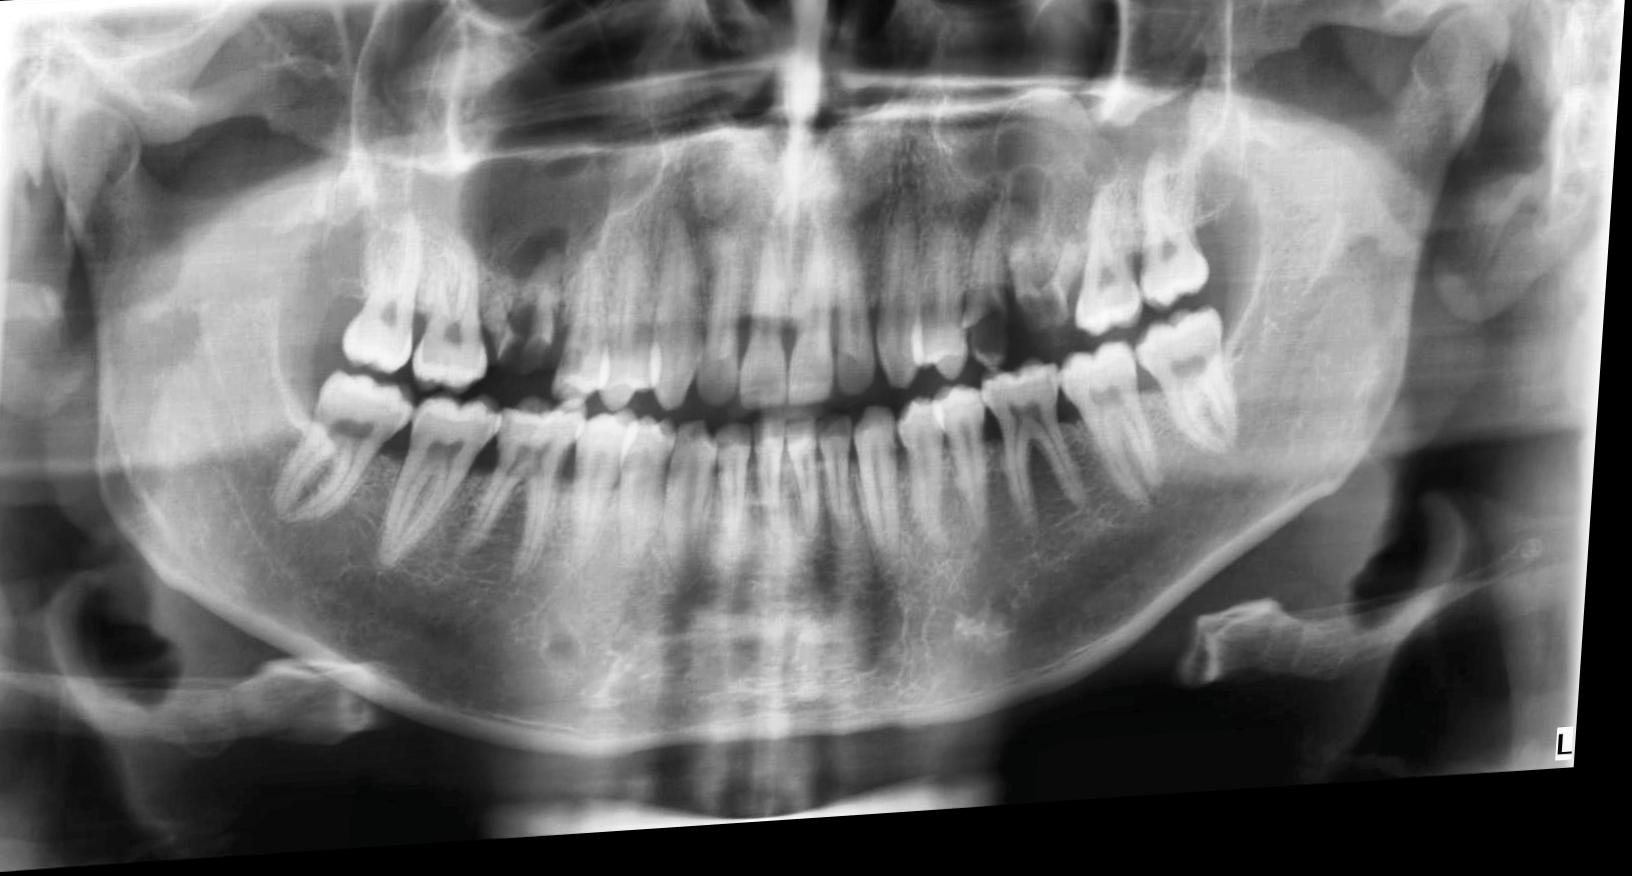radikuler: (457, 117, 672, 302), (998, 170, 1064, 262), (966, 186, 1019, 261)
